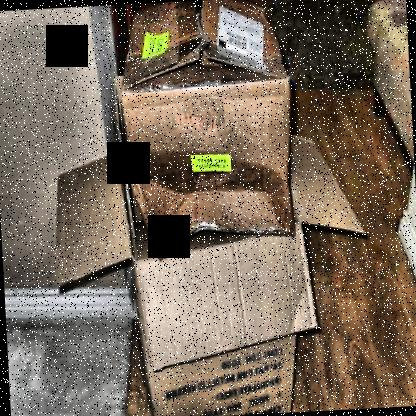defect parcel: (89, 0, 335, 270)
